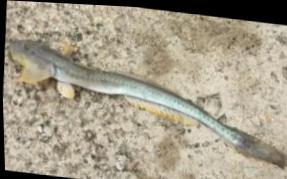fish: (7, 40, 284, 161)
